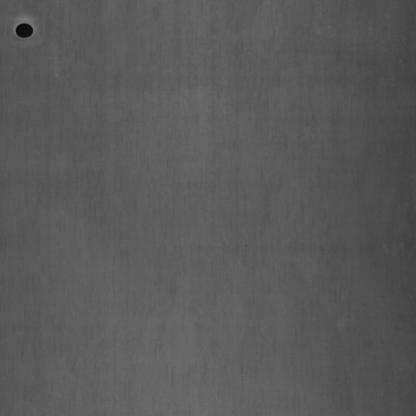punching_hole: (11, 19, 38, 45)
